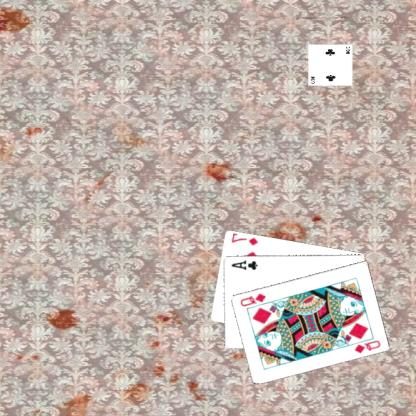7D: (231, 231, 261, 247)
AC: (230, 257, 260, 271)
QD: (239, 290, 269, 308), (353, 337, 383, 354)
